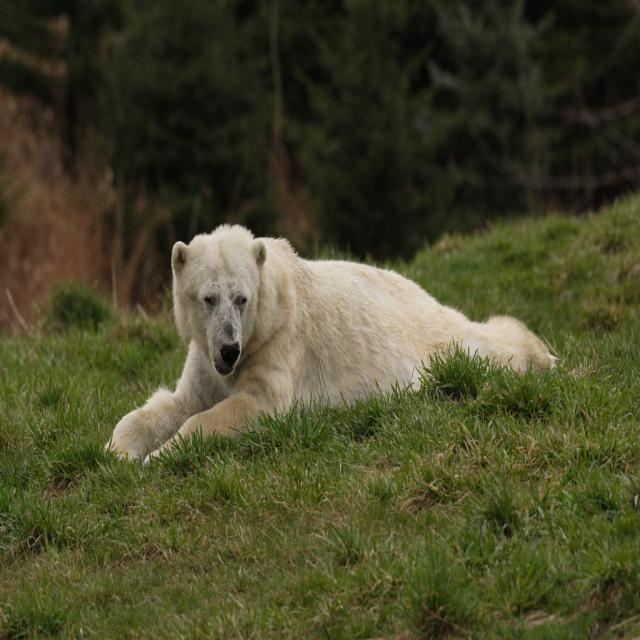Bear: (103, 221, 562, 468)
